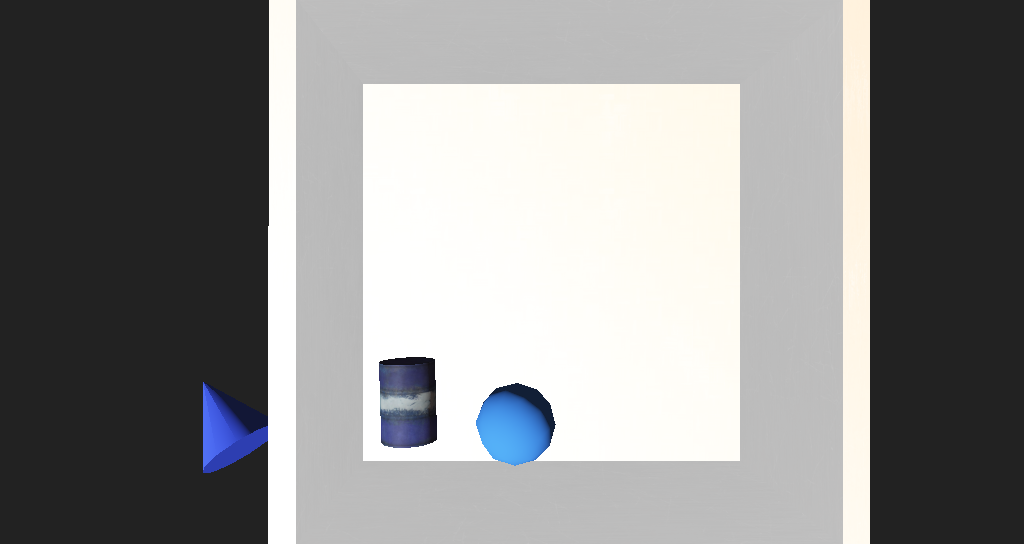cone: (364, 317, 418, 370)
cylinder: (179, 310, 307, 387)
sphere: (448, 332, 509, 375)
